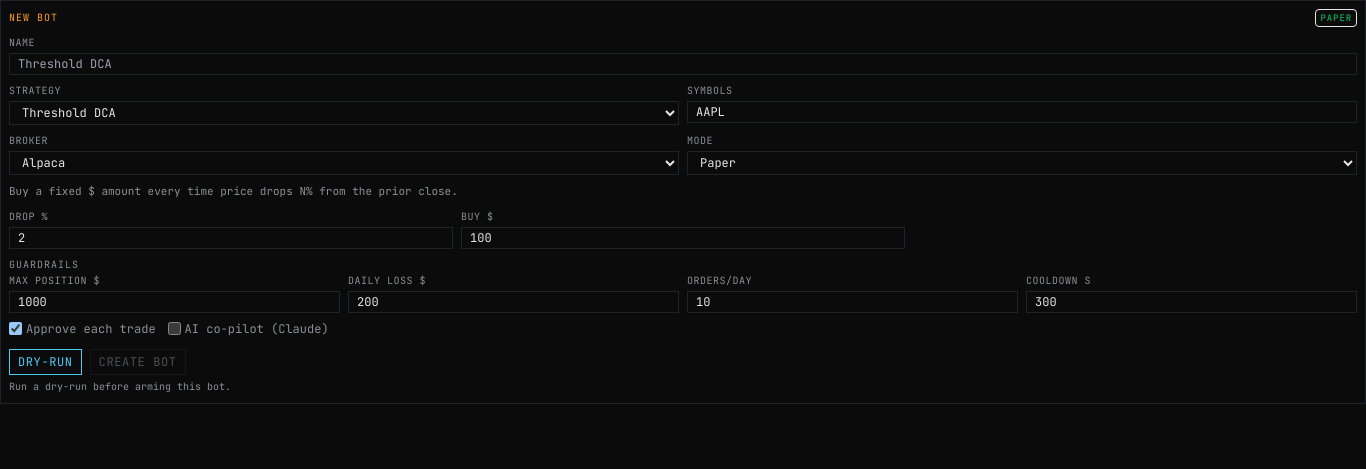
Test: <BotBuilder> › switches param fields when the strategy changes
Expected: the text "Drop %" is shown, [9, 210, 48, 223]
Note: strategy is the first combobox (broker/mode follow)
Select "RSI reversion" in the dropdown labelled "Strategy" at (344, 113), box [9, 101, 679, 125]
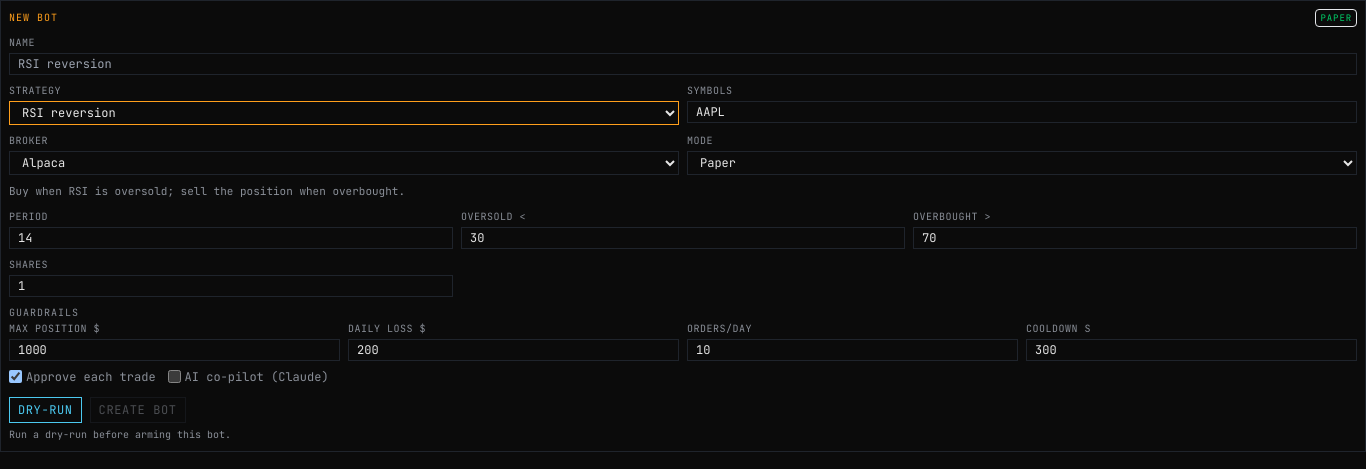
Now the text "Oversold <" is shown, box [461, 210, 526, 223]
Now the text "Drop %" is gone
